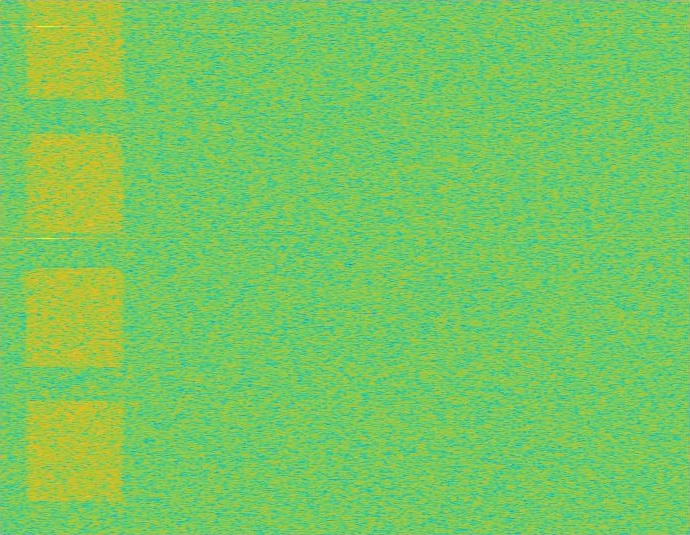5G: (23, 0, 127, 534)
Radar: (41, 0, 55, 534)
